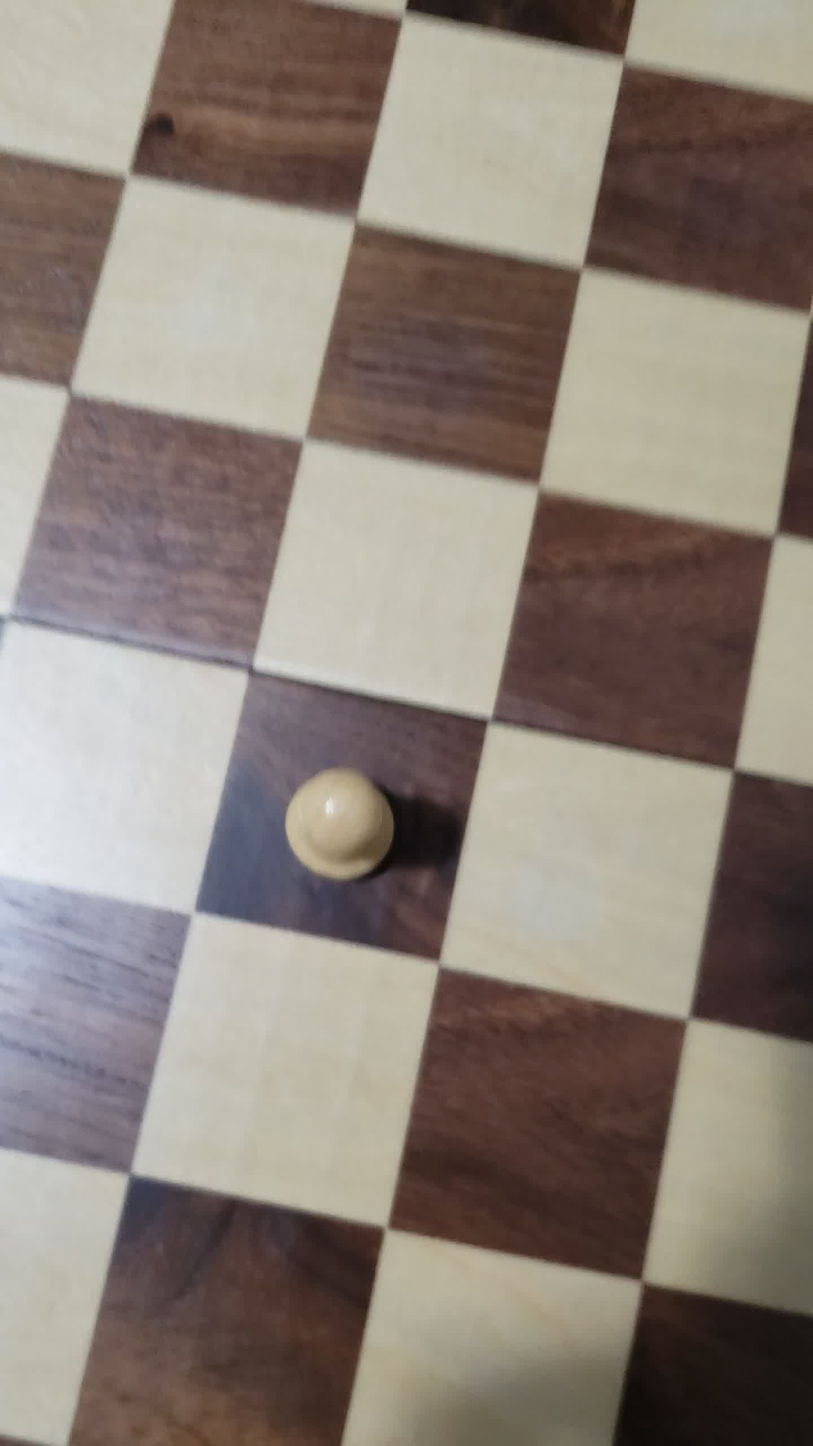white-pawn: (254, 746, 430, 919)
